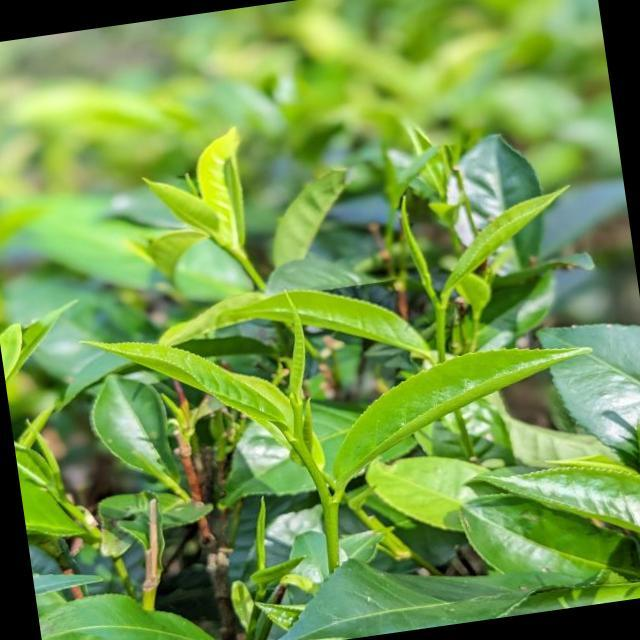Stem: (325, 501, 339, 517), (436, 306, 445, 317), (239, 255, 248, 263)
